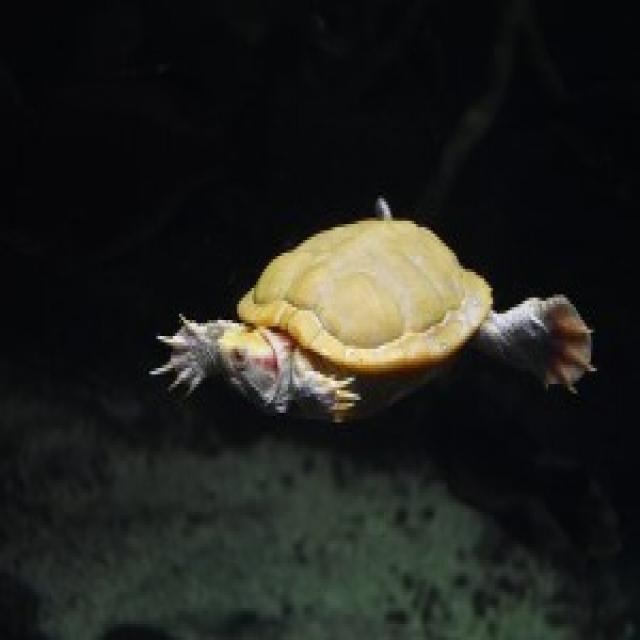Sea turtle: (145, 191, 624, 453)
